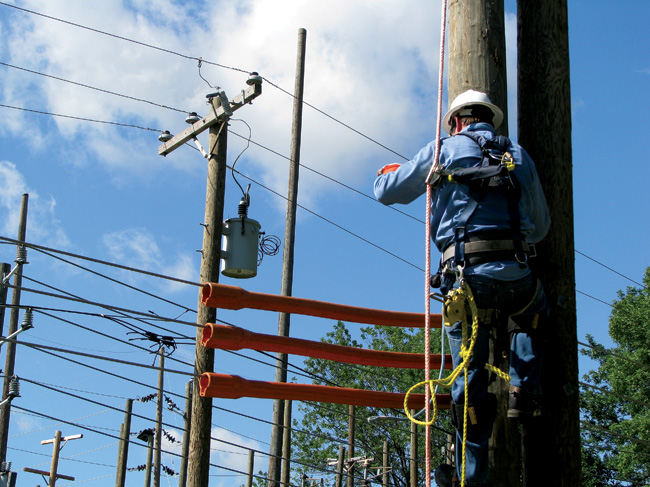utility_pole: (144, 58, 271, 188)
